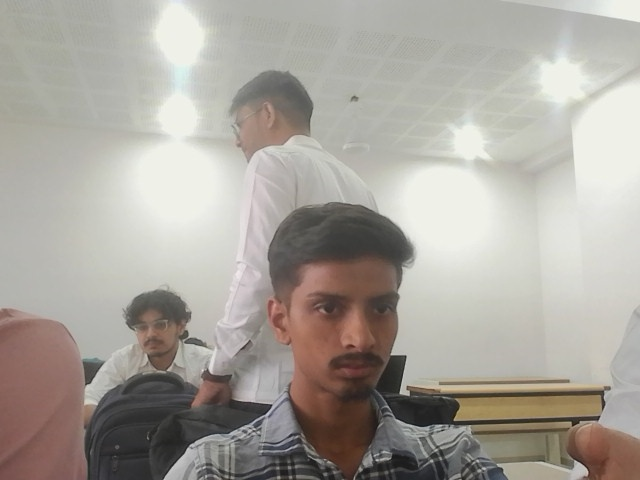fan_on: (340, 94, 369, 154)
light_on: (151, 12, 219, 161), (403, 121, 529, 175), (536, 67, 601, 110)
person: (158, 201, 528, 479), (191, 69, 383, 415), (77, 287, 211, 429), (0, 305, 83, 479)
